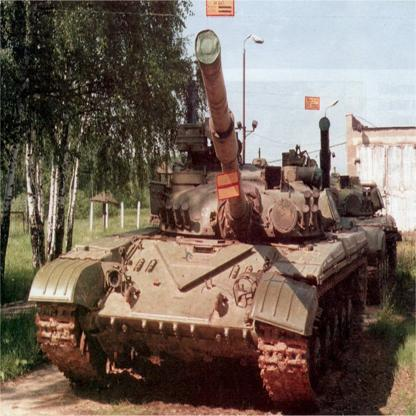Tank: (29, 28, 403, 416)
